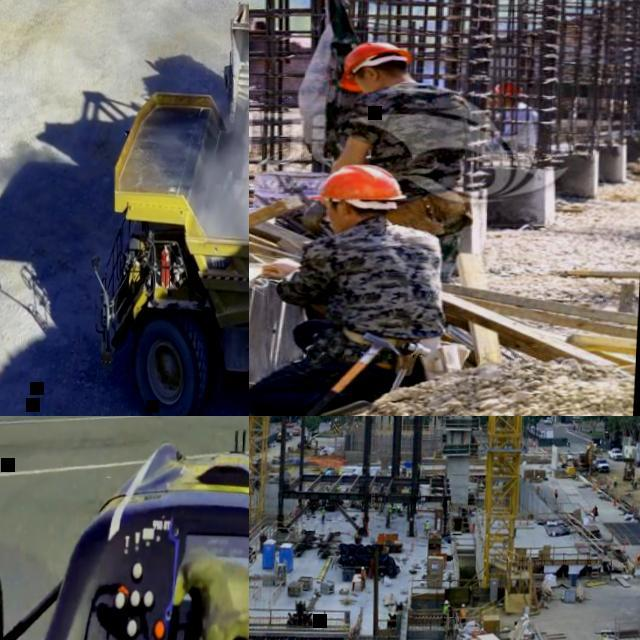Helmet: (304, 162, 408, 220), (333, 41, 437, 94), (479, 77, 529, 103)
Robbery: (274, 162, 498, 432), (327, 27, 495, 243), (487, 73, 554, 164)
